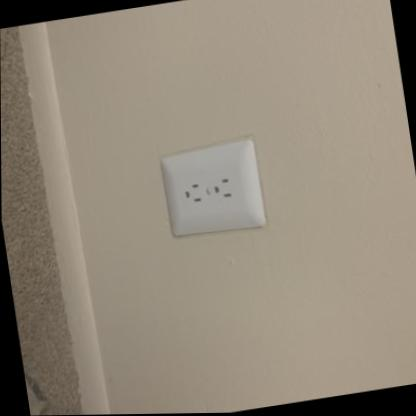OUTLET: (159, 140, 267, 241)
